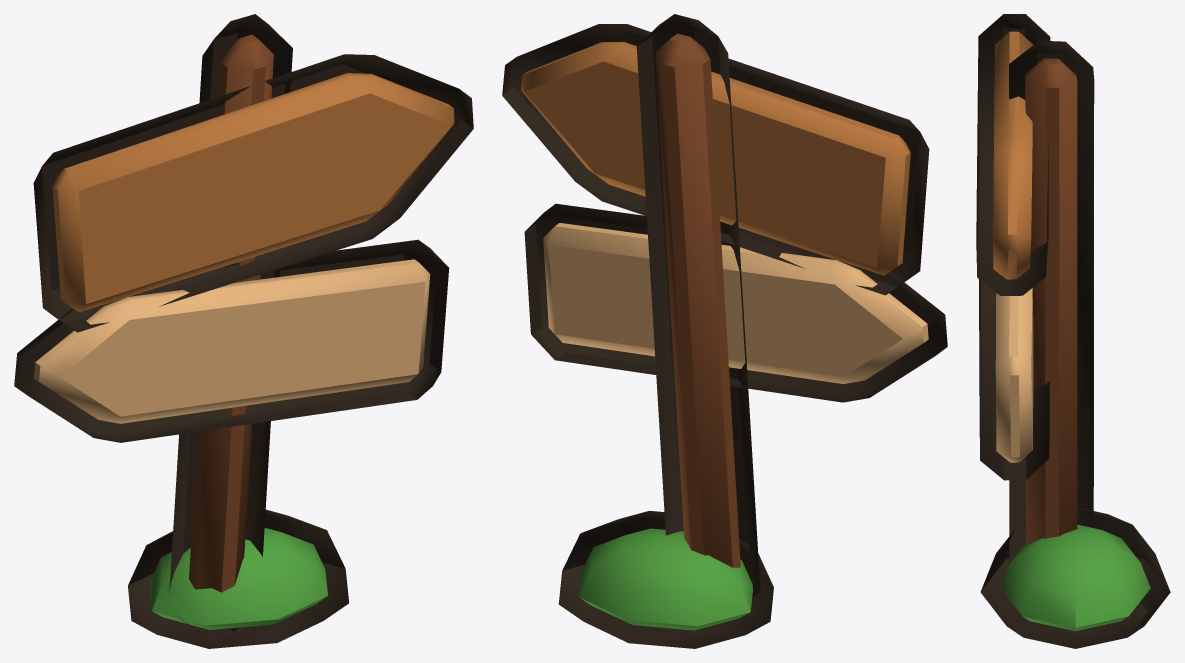
File: sign.glb
3 renders of one model, left to right at view 1: azimuth 30°, elevation 25°; view 2: azimuth 150°, elevation 25°; view 3: azimuth 270°, elevation 25°, orthographic. The views are drawn at different scales.
Parts seen in each view (by area): view 1: sign; view 2: sign; view 3: sign.
Part boxes in pixels (<box>): sign: <box>14,14,473,648</box>; sign: <box>502,14,947,648</box>; sign: <box>976,14,1170,648</box>.
Bounding box in the file's own units: 1.03 × 1.33 × 0.4137.
